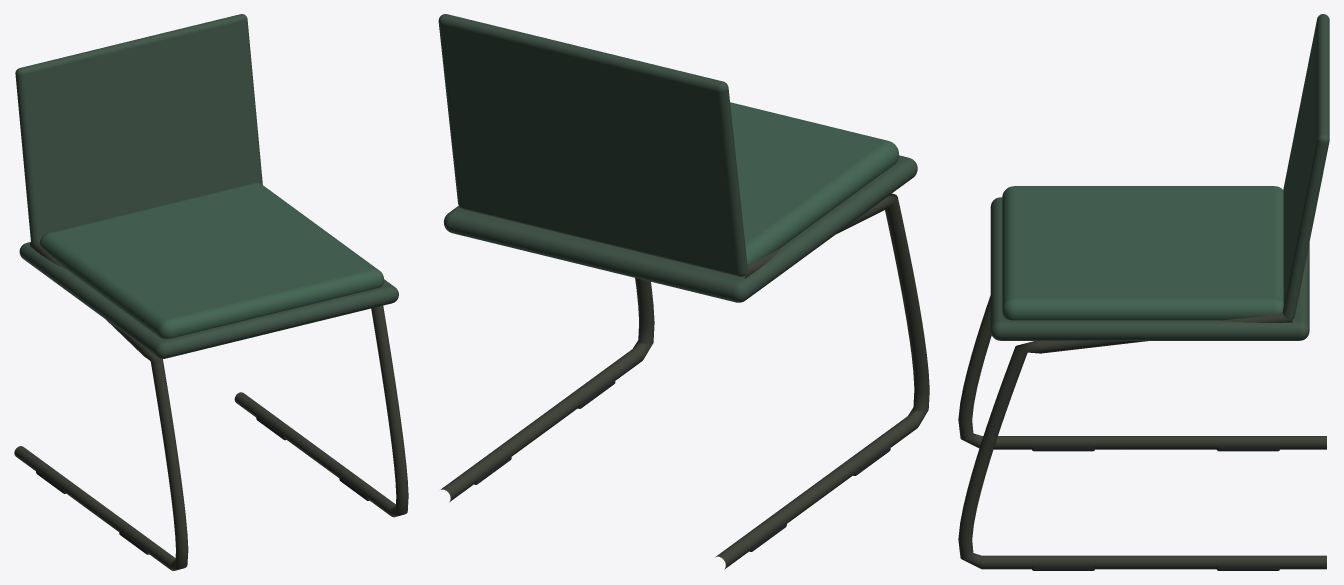
Rendered from atelier-sidechair-forest.glb.
The picture shows the model from 3 angles, left to right: view 1: azimuth 30°, elevation 25°; view 2: azimuth 150°, elevation 25°; view 3: azimuth 270°, elevation 25°; orthographic projection. The views are drawn at different scales.
Visible parts, largest first — view 1: mesh_9, mesh_8, mesh_7, mesh_0, mesh_3; view 2: mesh_9, mesh_8, mesh_7, mesh_0, mesh_3; view 3: mesh_8, mesh_3, mesh_7, mesh_9, mesh_0.
Boxes of the visible parts, box(x1,y1,x2,y2) form: mesh_9: box(15, 14, 262, 243); mesh_8: box(39, 183, 383, 338); mesh_7: box(19, 242, 398, 358); mesh_0: box(14, 241, 188, 570); mesh_3: box(234, 305, 408, 517); mesh_9: box(438, 14, 747, 276); mesh_8: box(730, 102, 898, 264); mesh_7: box(444, 155, 917, 302); mesh_0: box(715, 193, 929, 569); mesh_3: box(440, 278, 654, 502); mesh_8: box(1002, 186, 1283, 320); mesh_3: box(958, 312, 1326, 569); mesh_7: box(990, 197, 1309, 340); mesh_9: box(1282, 14, 1329, 319); mesh_0: box(958, 295, 1326, 449).
Bounding box in the file's own units: 0.5076 × 0.7797 × 0.6039.
